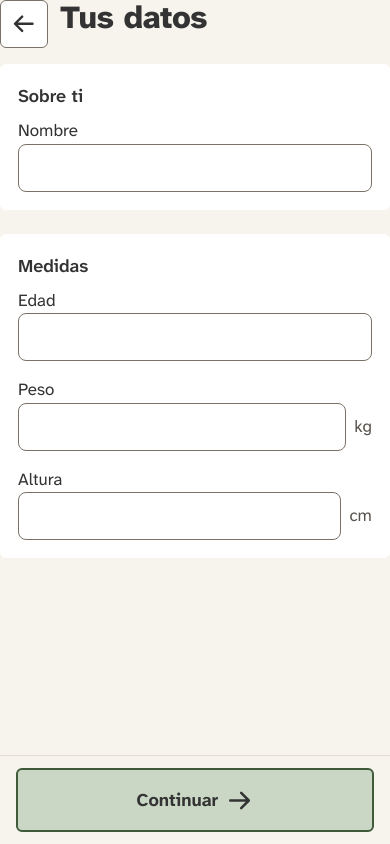
Scenario: Pagina de datos › nombre vacio: anuncia MENSAJE_NOMBRE_VACIO en el mismo tick y enfoca #nombre
Click the button "Continuar": (195, 800) x1=16 y1=768 x2=374 y2=832
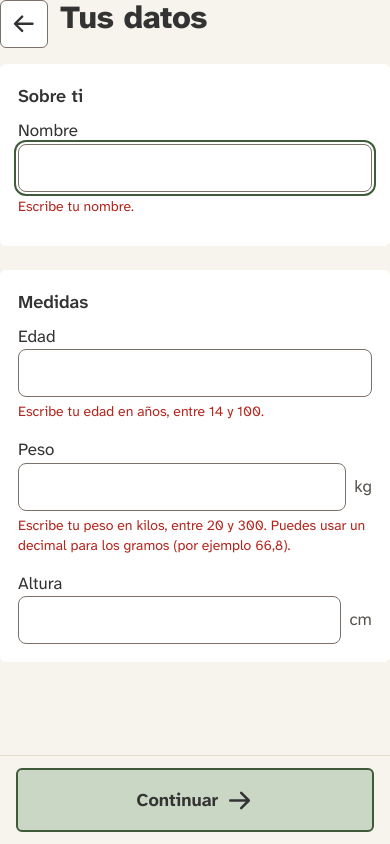
Expected: the text with id "error-nombre" reads "Escribe tu nombre.", x1=18 y1=196 x2=134 y2=214
